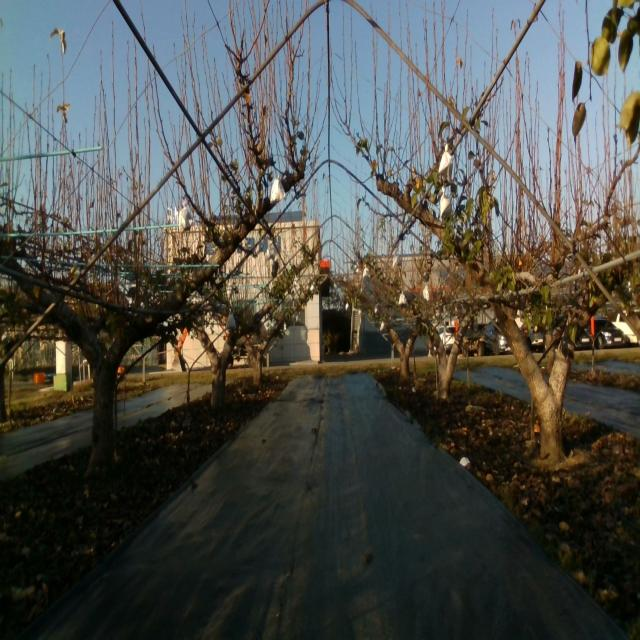pearbags: (438, 144, 452, 183), (178, 203, 194, 235), (270, 174, 286, 204), (439, 185, 451, 218)
